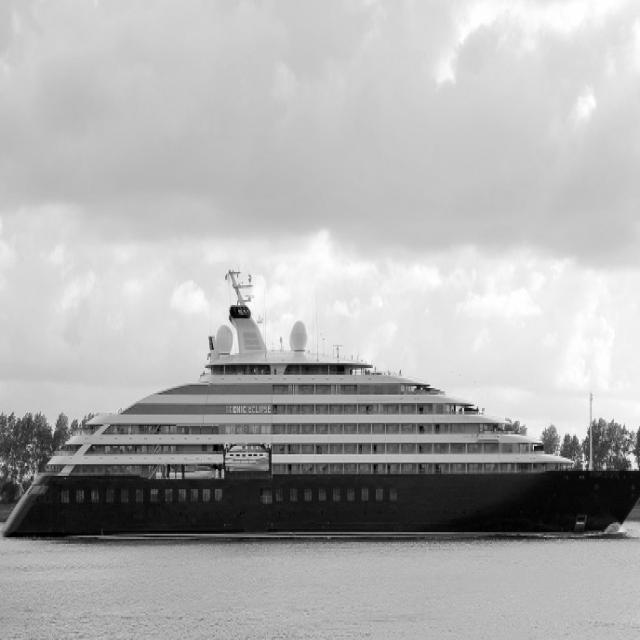cruises: (1, 265, 640, 550)
